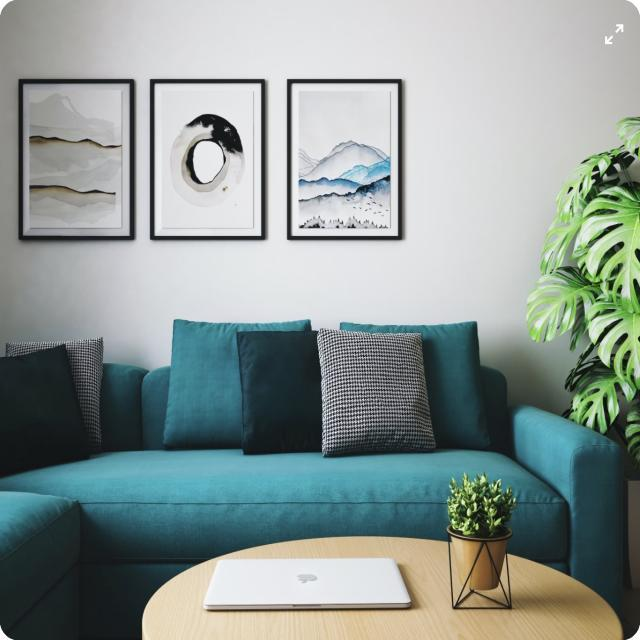computer: (208, 553, 418, 610)
picture: (14, 73, 139, 247), (283, 73, 409, 245), (150, 72, 266, 244)
pillow: (314, 321, 442, 462), (240, 326, 329, 456), (5, 353, 99, 469)
potted plant: (447, 472, 513, 614)
table: (142, 520, 636, 640)
